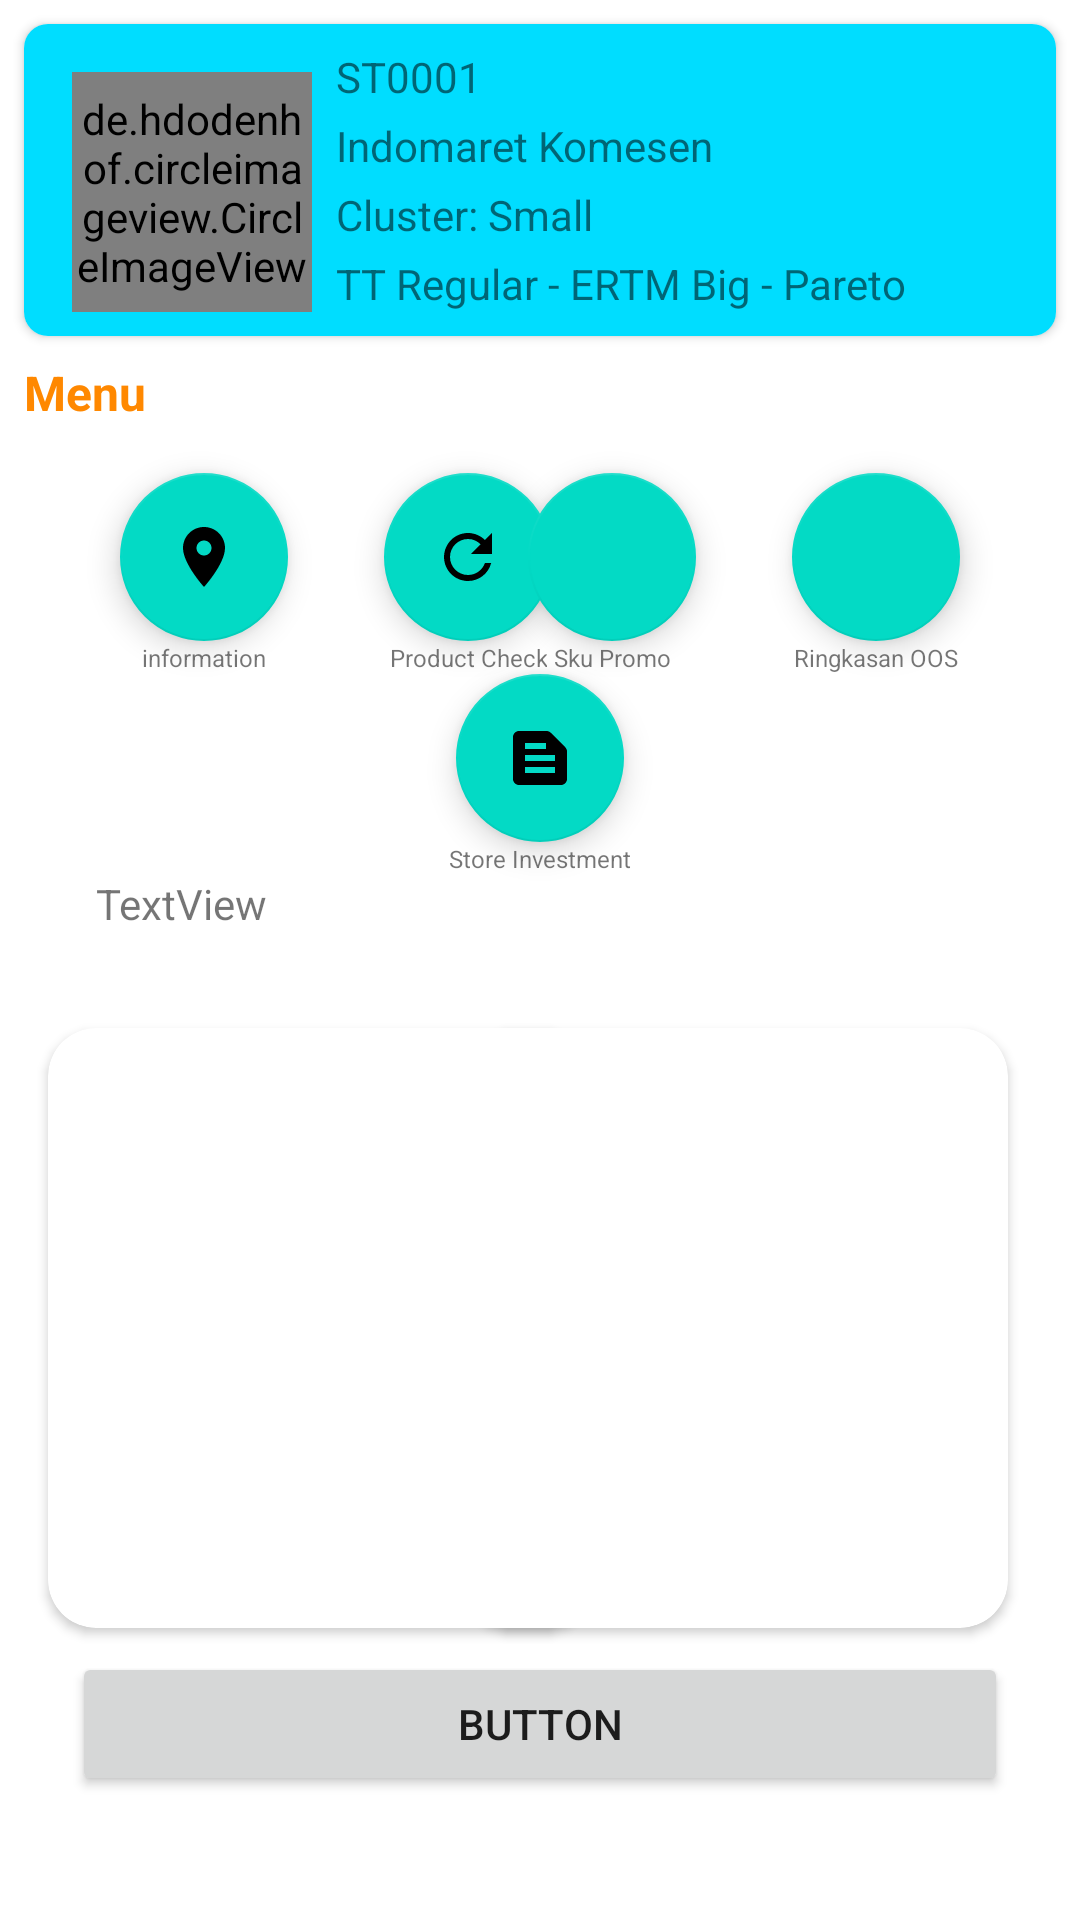

Screen size 1080x1920. Icon name, then its box in pixels as (x1=x1, y1=y1, x2=x2, y2=y2):
location on: (x1=120, y1=473, x2=288, y2=641)
refresh: (x1=384, y1=473, x2=552, y2=641)
snippet: (x1=456, y1=674, x2=624, y2=842)
